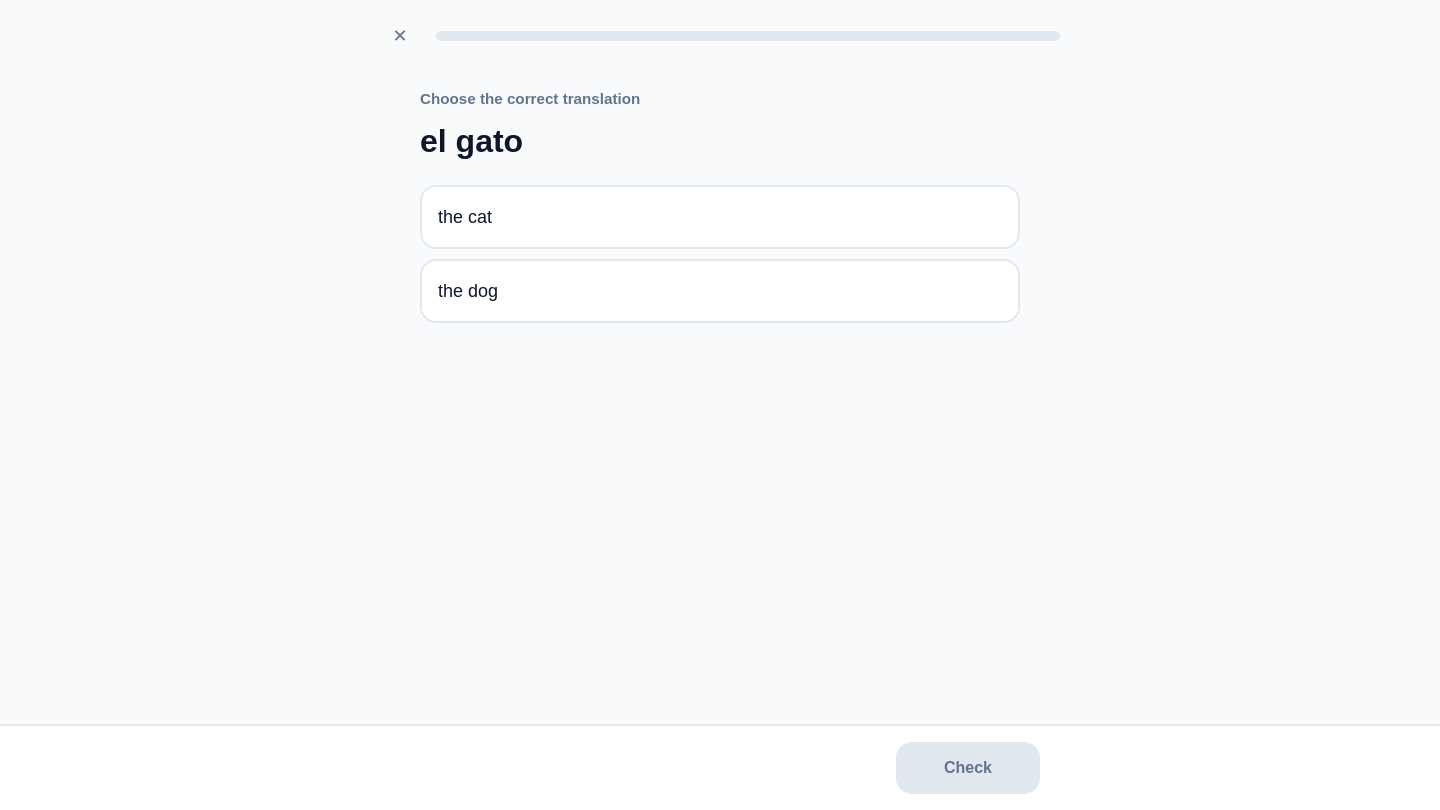
Test case: lesson flow › locks the options after checking
Click the radio button labelled "the dog" at (468,291), box [420,259,1020,323]
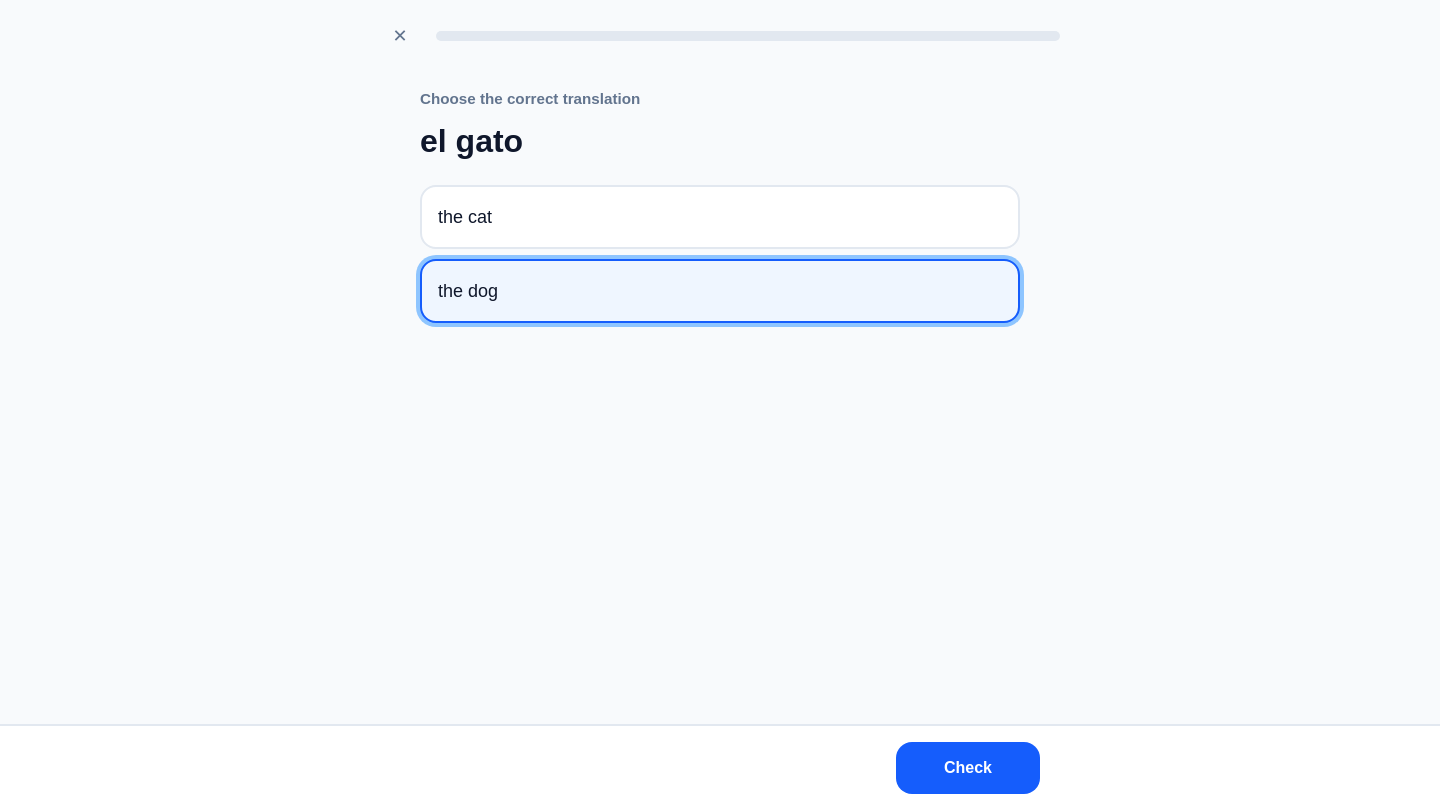
Click the button "Check" at (968,768), box [896,742,1040,794]
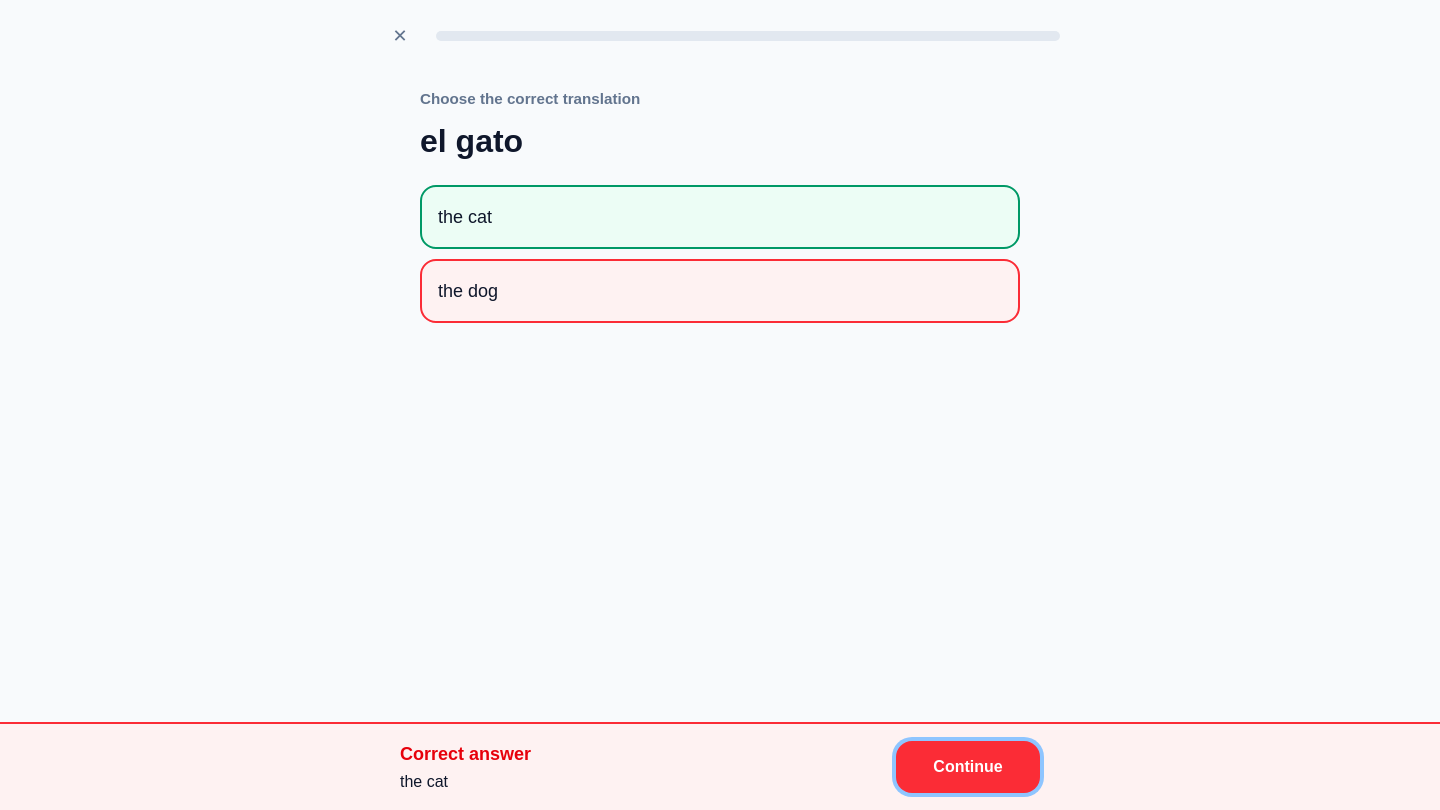
Expected: the radio button labelled "the dog" is disabled, [420,259,1020,323]
Expected: the radio button labelled "the cat" is disabled, [420,185,1020,249]
